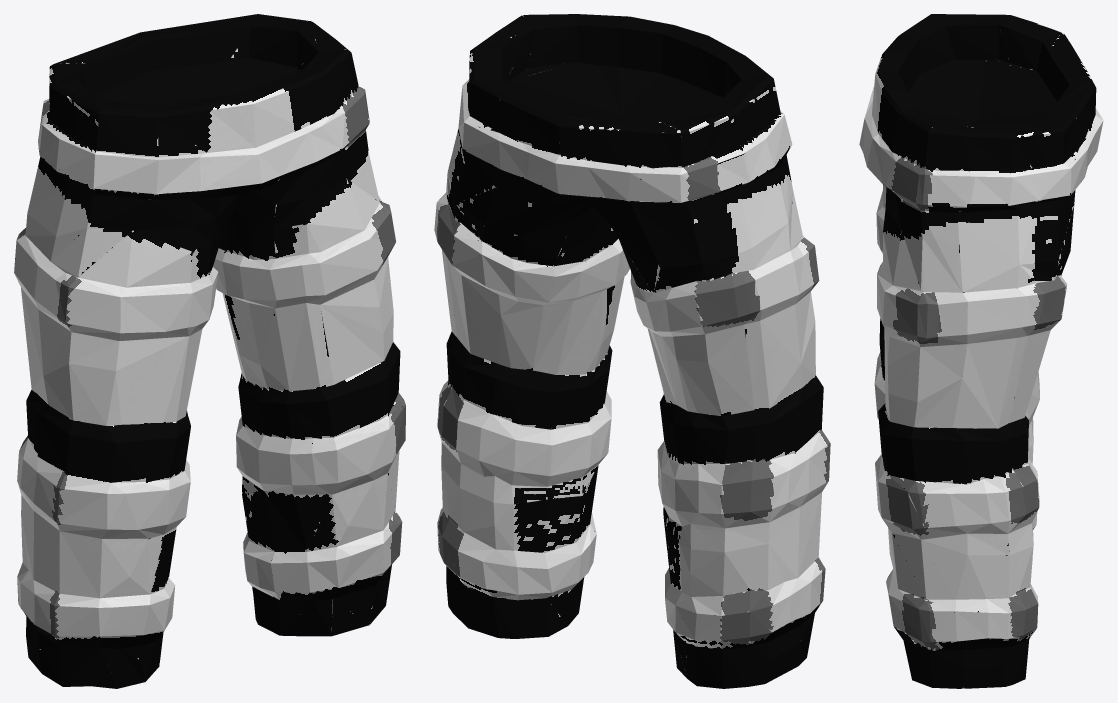
3 views of the same model, side by side, from view 1: azimuth 30°, elevation 25°; view 2: azimuth 150°, elevation 25°; view 3: azimuth 270°, elevation 25° (orthographic). The views are drawn at different scales.
Parts seen in each view (by area): view 1: OBJ023; view 2: OBJ023; view 3: OBJ023.
Boxes of the visible parts, x1,y1,x2,y2 form: OBJ023: (14, 14, 405, 688); OBJ023: (434, 14, 830, 688); OBJ023: (859, 14, 1103, 688).
Bounding box in the file's own units: 0.247 × 0.3887 × 0.1545.
1 material, 1 textured.
